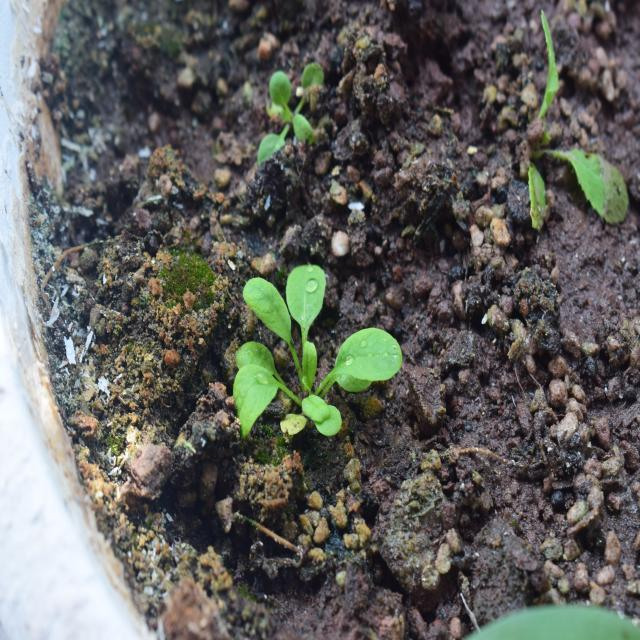Shepherd_Purse: (232, 248, 402, 462)
